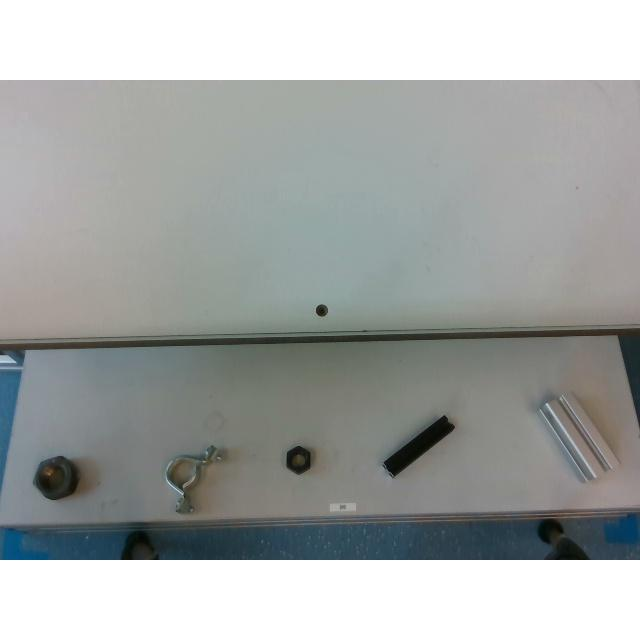F20_20_B: (382, 416, 454, 476)
Housing: (163, 445, 221, 513)
M20: (285, 446, 311, 474)
M30: (33, 456, 77, 499)
S40_40_G: (538, 394, 618, 482)
